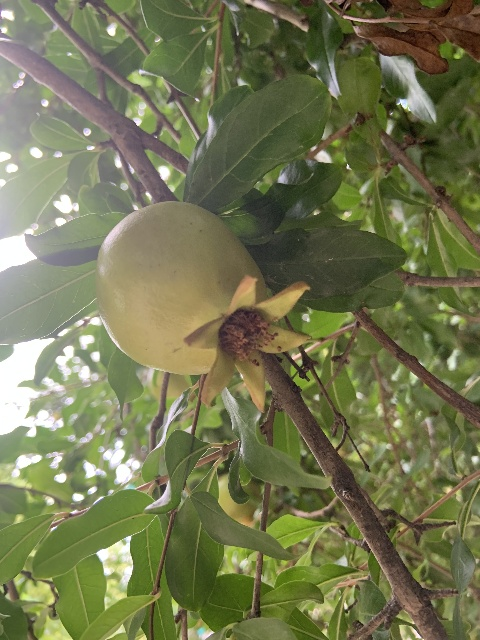mid-growth: (95, 202, 316, 413)
